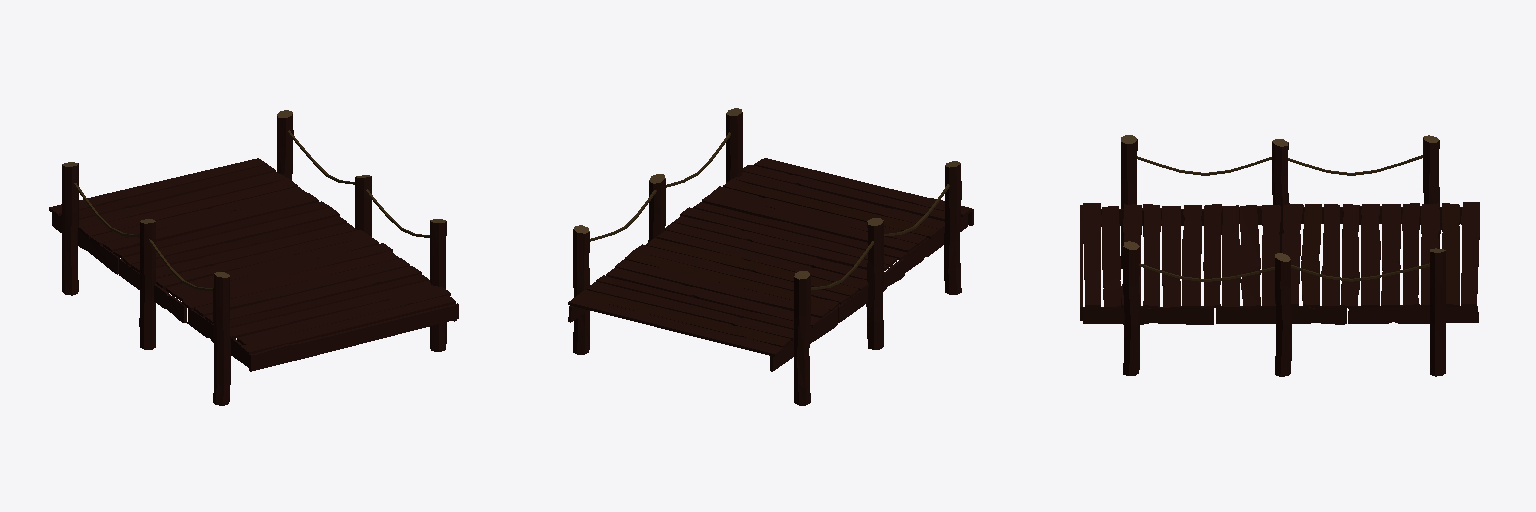
Rendered from Dock_Wide.obj.
3 views of the same model, side by side, from view 1: azimuth 30°, elevation 25°; view 2: azimuth 150°, elevation 25°; view 3: azimuth 270°, elevation 25° (orthographic).
Parts seen in each view (by area): view 1: Dock_Wide_Cylinder.004; view 2: Dock_Wide_Cylinder.004; view 3: Dock_Wide_Cylinder.004.
Boxes of the visible parts, box(x1,y1,x2,y2) form: Dock_Wide_Cylinder.004: box(49, 110, 458, 405); Dock_Wide_Cylinder.004: box(568, 108, 973, 405); Dock_Wide_Cylinder.004: box(1080, 135, 1479, 376).
Bounding box in the file's own units: 14.63 × 7.68 × 21.69.